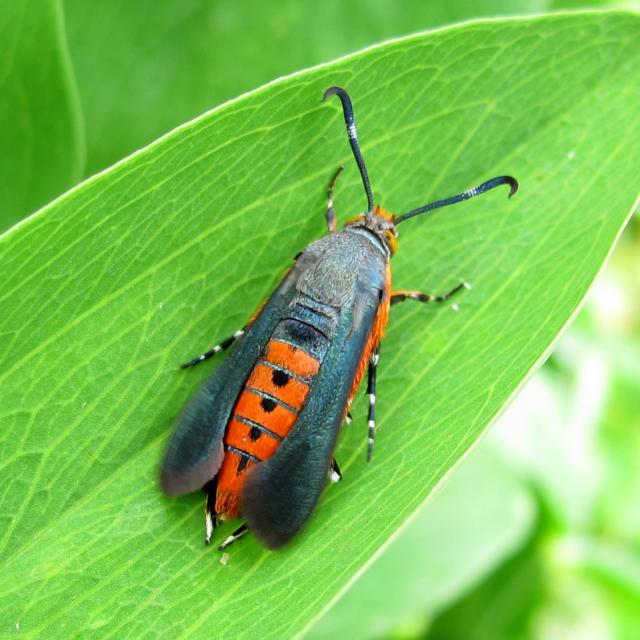squash_vine_borer: (141, 79, 542, 552)
